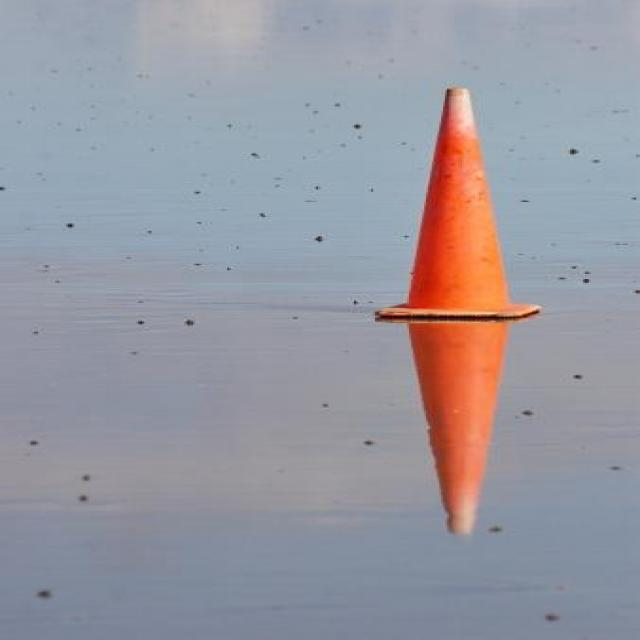Cone: (375, 82, 558, 324)
